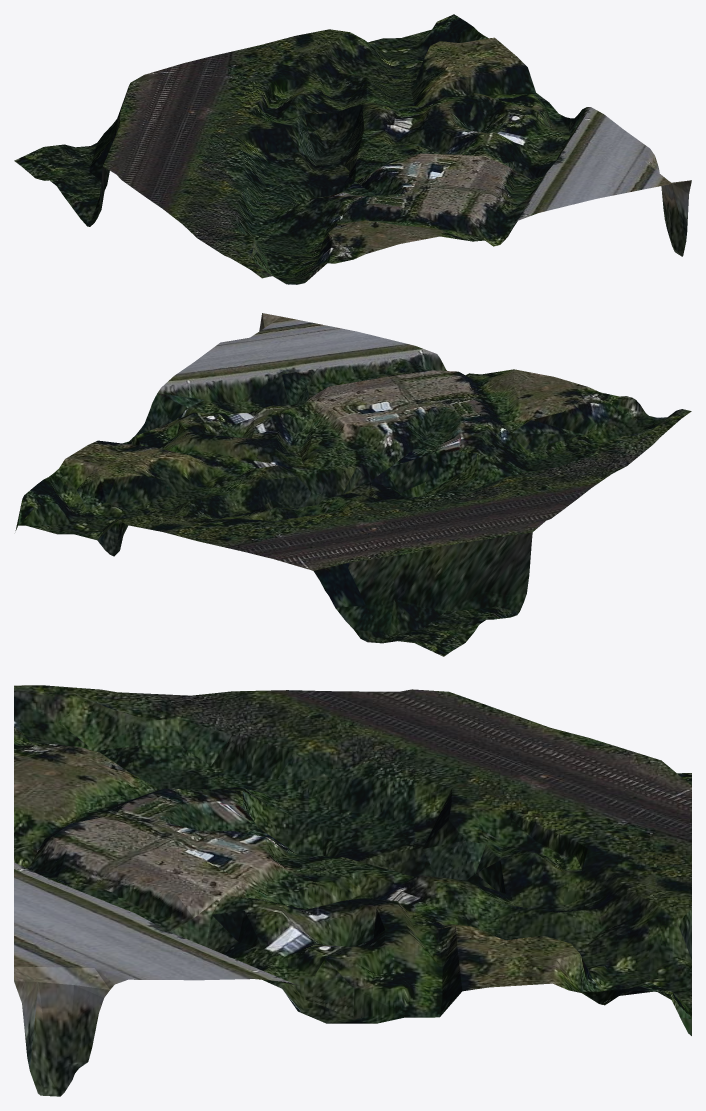
Rendered from map_15_8186_13791.dae.
The picture shows the model from 3 angles, top to bottom: view 1: azimuth 30°, elevation 25°; view 2: azimuth 150°, elevation 25°; view 3: azimuth 270°, elevation 25°; orthographic projection. The views are drawn at different scales.
Parts seen in each view (by area): view 1: Ter0; view 2: Ter0; view 3: Ter0.
Boxes of the visible parts, <box> form: Ter0: <box>14,14,691,284</box>; Ter0: <box>15,313,691,656</box>; Ter0: <box>14,685,691,1096</box>.
Bounding box in the file's own units: 63.88 × 63.88 × 13.09.
Materials: 2 (2 with a texture image).
